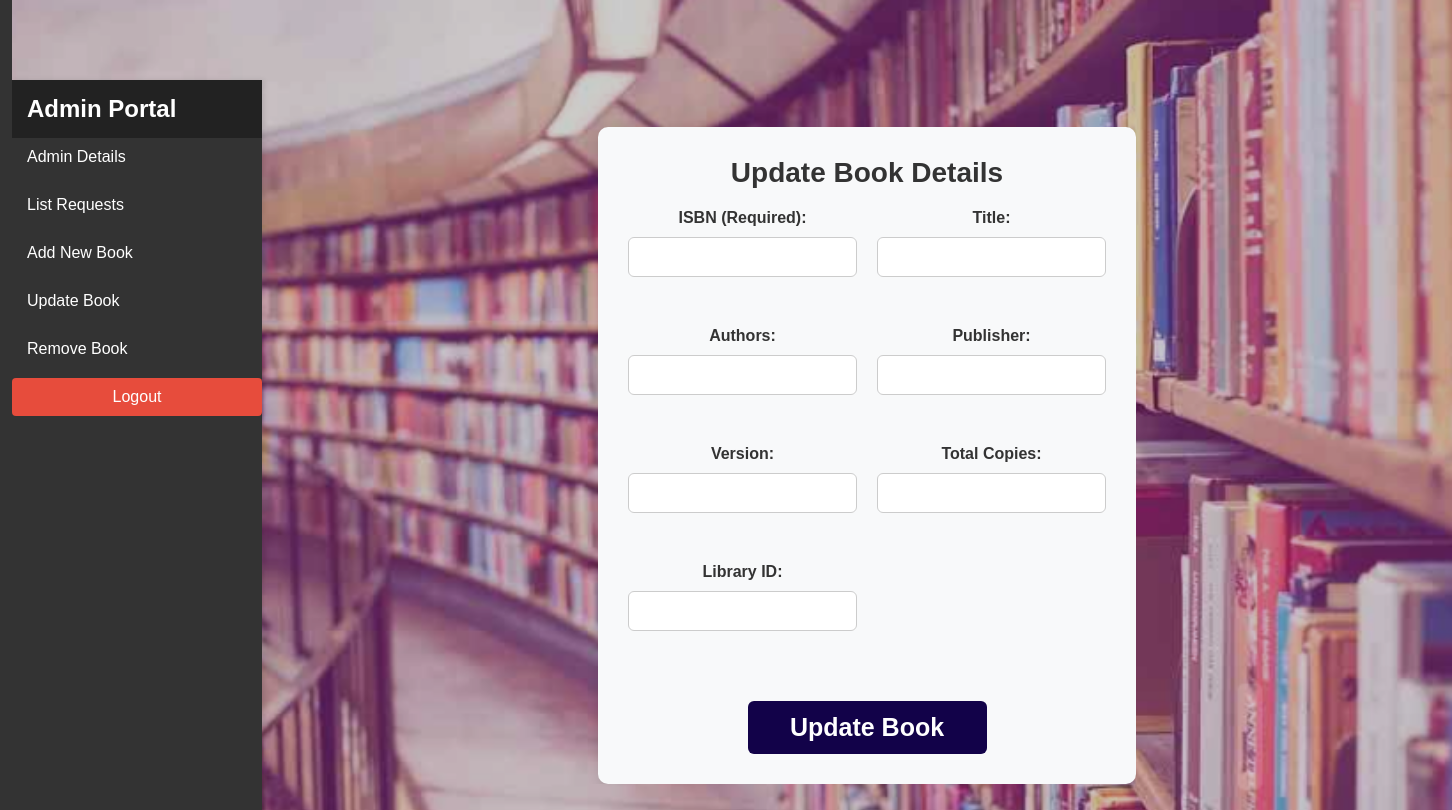
Scenario: AdminUpdateBook › shows error message on API failure
Fill the form inputs
Type "1234567890" into the field labelled "ISBN (Required):" at (742, 256), box [628,236,857,276]
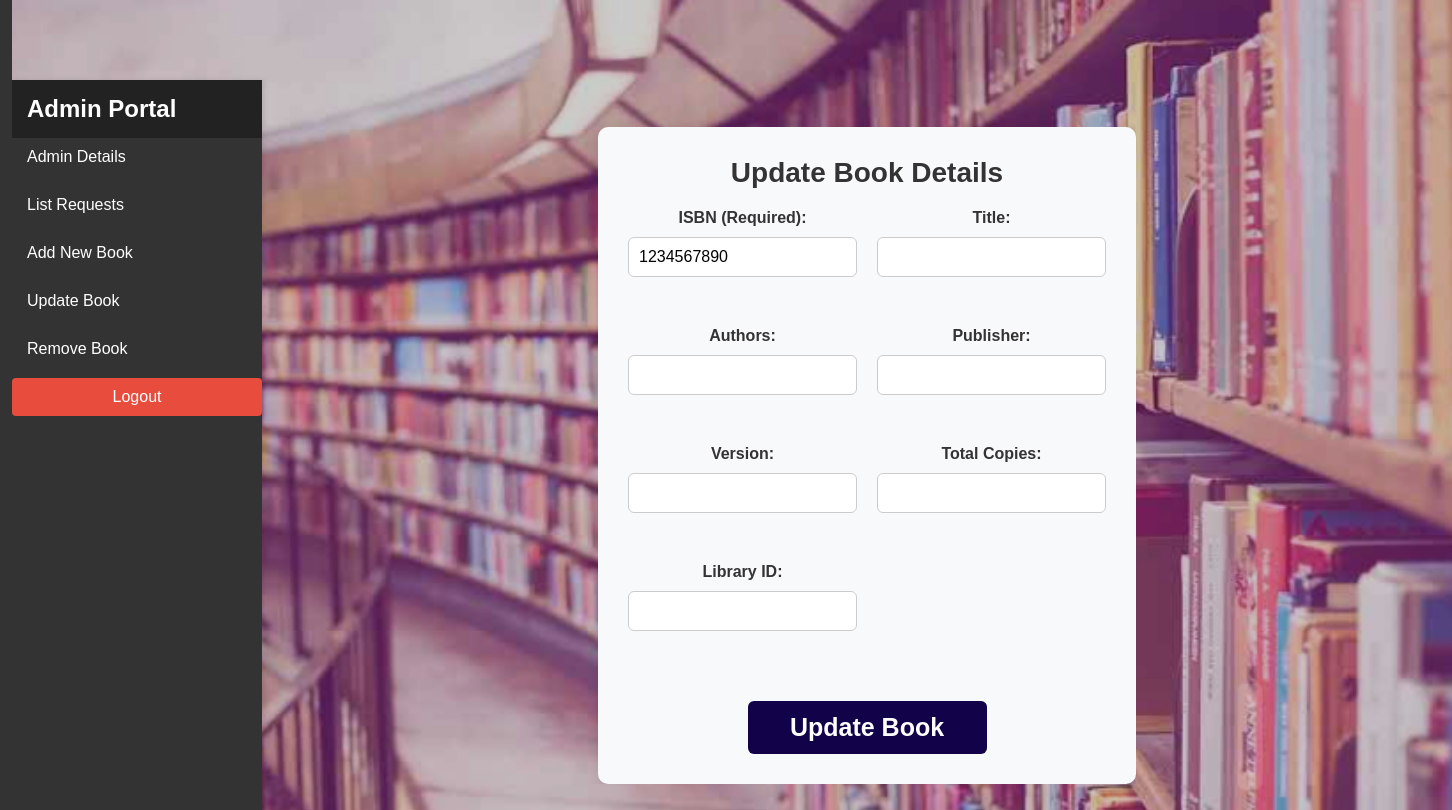
Submit the form
Click the button "Update Book" at (867, 727), box [748,700,986,754]
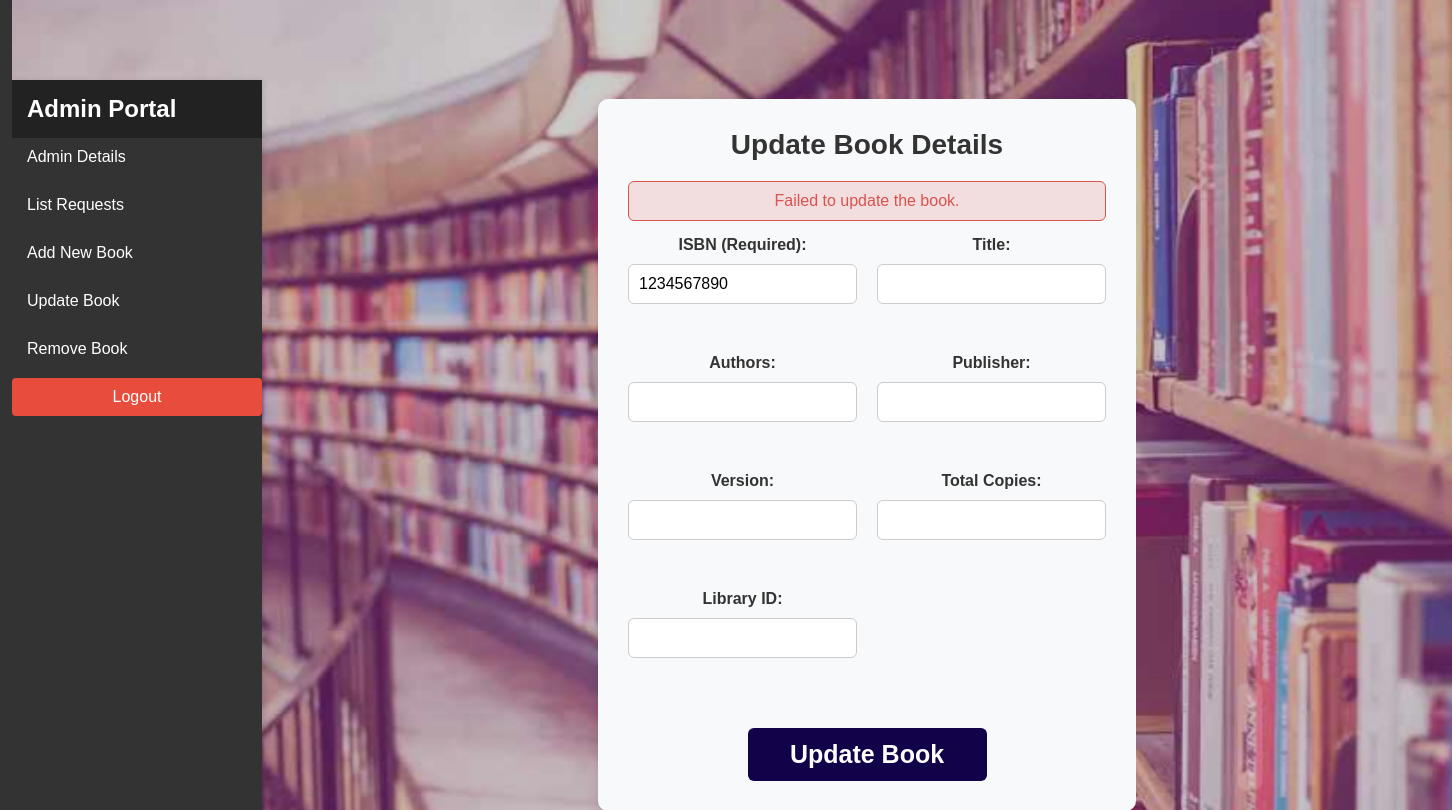
expect the text "Failed to update the book." is shown: met, box [628,181,1106,221]
